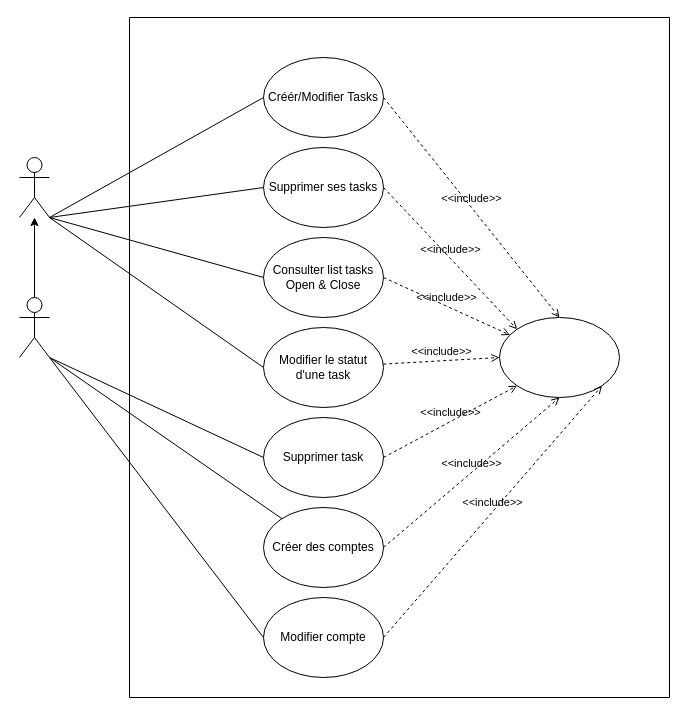
The diagram is 687 pixels wide and 715 high, and some of its shapes have lost their labels. The shapes that lost their labels are listed below. From the top down, each one's centre as x and y in pixels, then its label:
At point 34,187: "User".
At point 34,327: "Admin".
At point 559,357: "Authentification".
